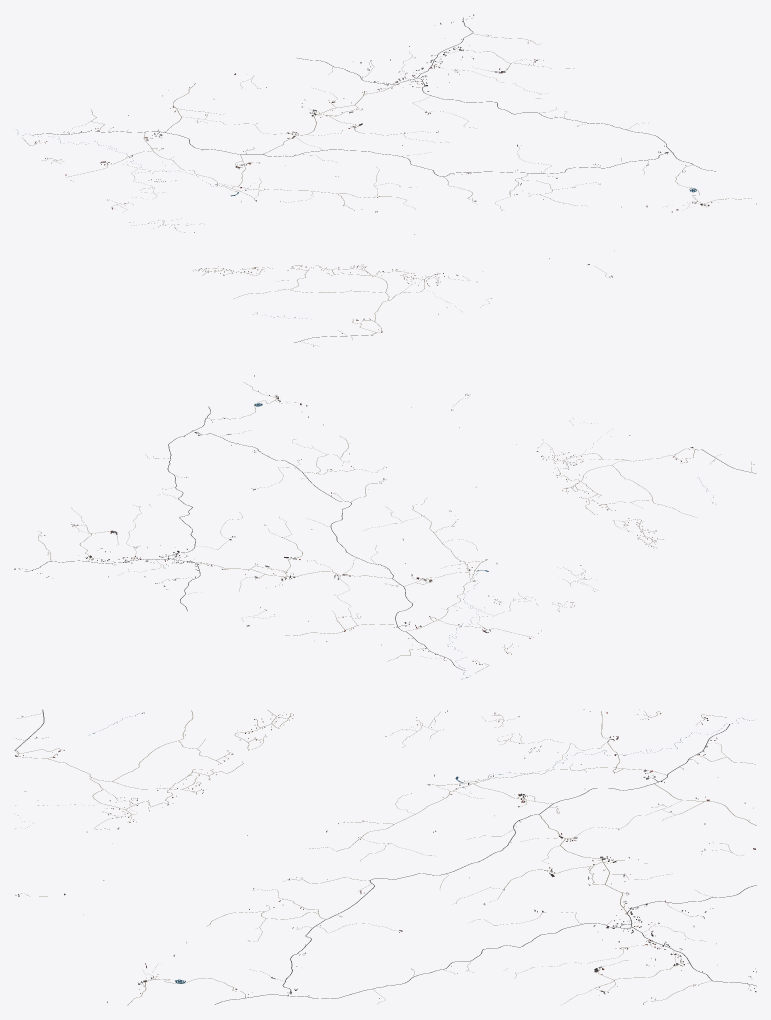
The model's file is vikbolandet_objekt.glb.
The picture shows the model from 3 angles, top to bottom: view 1: azimuth 30°, elevation 25°; view 2: azimuth 150°, elevation 25°; view 3: azimuth 270°, elevation 25°; orthographic projection. The views are drawn at different scales.
Size of what is drawn, in the model's own units: 6579 by 63.89 by 6999.
13 materials, 6 textured.
